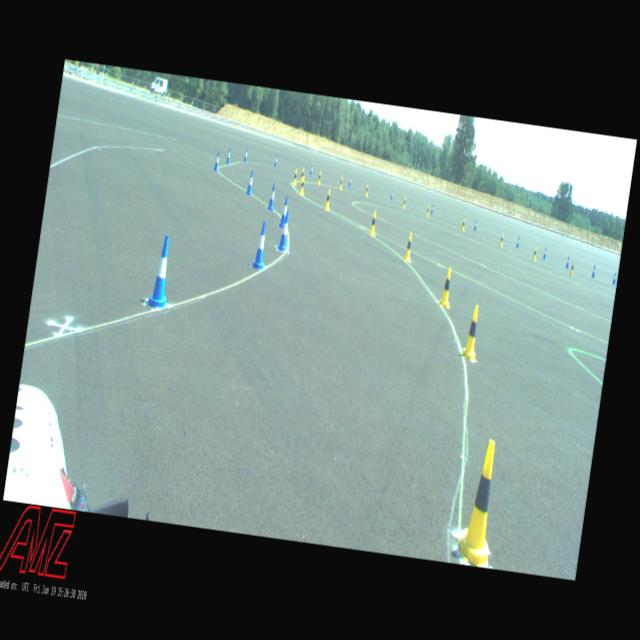blue_cone: (144, 233, 178, 310), (250, 220, 270, 271), (276, 210, 293, 253), (266, 182, 278, 212), (278, 195, 288, 228), (246, 170, 256, 196), (213, 150, 221, 172), (226, 146, 232, 164), (591, 264, 597, 278), (542, 247, 548, 260), (244, 148, 248, 163), (612, 273, 617, 285), (274, 154, 278, 168), (310, 163, 314, 176), (389, 190, 394, 200), (566, 256, 570, 268), (348, 176, 352, 188), (516, 236, 520, 248), (430, 204, 434, 215), (473, 220, 477, 230)
yellow_cone: (456, 436, 508, 566), (461, 304, 484, 359), (438, 267, 454, 309), (402, 232, 414, 262), (368, 210, 378, 237), (324, 188, 332, 212), (298, 177, 306, 196), (292, 168, 298, 187), (532, 246, 538, 262), (300, 168, 306, 184), (569, 260, 575, 276), (339, 176, 344, 190), (461, 218, 466, 231), (402, 196, 407, 209), (318, 170, 322, 185), (500, 233, 504, 247), (365, 185, 369, 198), (426, 205, 430, 218)
